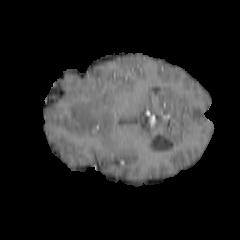glioma: (47, 83, 112, 129)
